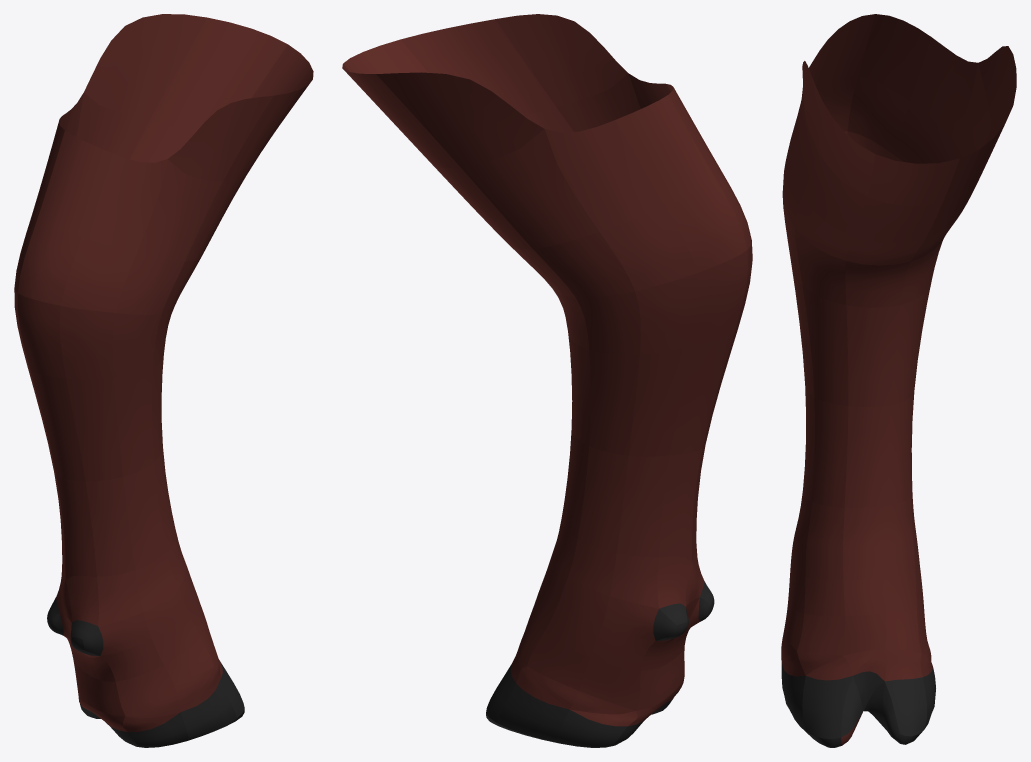
The model's file is B_horse.fbx.
The picture shows the model from 3 angles, left to right: view 1: azimuth 30°, elevation 25°; view 2: azimuth 150°, elevation 25°; view 3: azimuth 270°, elevation 25°; orthographic projection. The views are drawn at different scales.
Visible parts, largest first — view 1: HORSEback; view 2: HORSEback; view 3: HORSEback.
Boxes of the visible parts, bbox=[...] form: HORSEback: bbox=[14, 14, 313, 747]; HORSEback: bbox=[342, 14, 752, 747]; HORSEback: bbox=[781, 14, 1016, 747].
Bounding box in the file's own units: 83.91 × 144 × 270.
